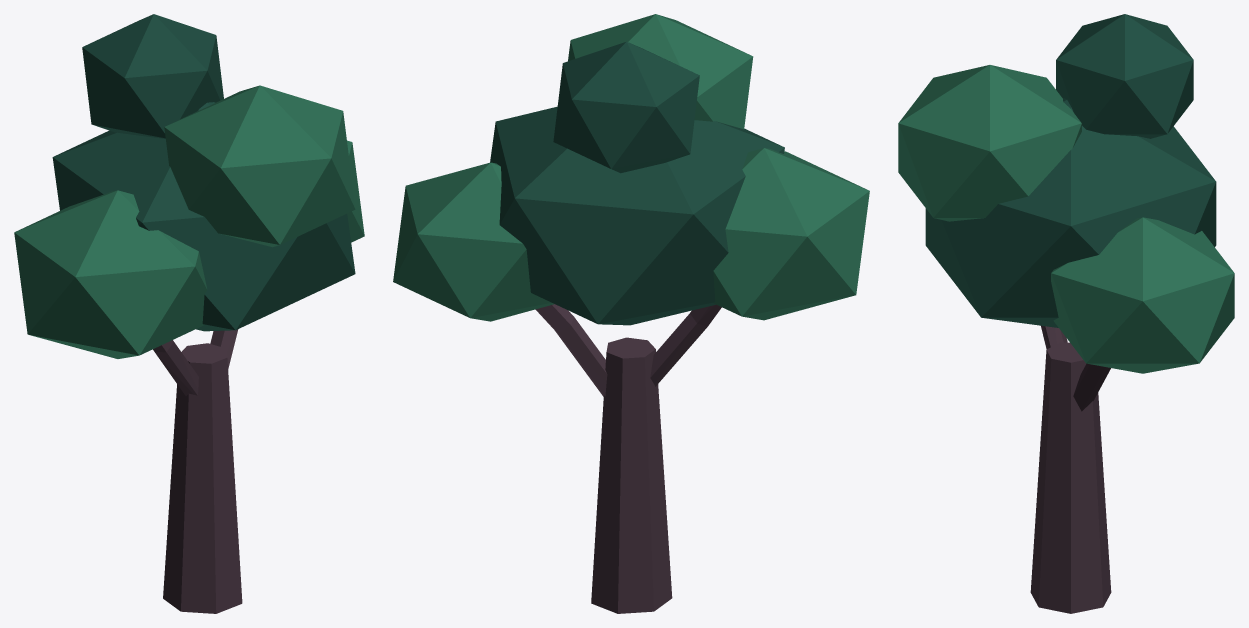
Rendered from Set_Yew.fbx.
The picture shows the model from 3 angles, left to right: view 1: azimuth 30°, elevation 25°; view 2: azimuth 150°, elevation 25°; view 3: azimuth 270°, elevation 25°; orthographic projection. The views are drawn at different scales.
Visible parts, largest first — view 1: Set_Yew; view 2: Set_Yew; view 3: Set_Yew.
Boxes of the visible parts, <box> form: Set_Yew: <box>14,14,364,613</box>; Set_Yew: <box>393,14,869,613</box>; Set_Yew: <box>898,14,1234,613</box>.
Size of what is drawn, in the model's own units: 4.94 by 7.01 by 3.74.
1 material, 1 textured.
